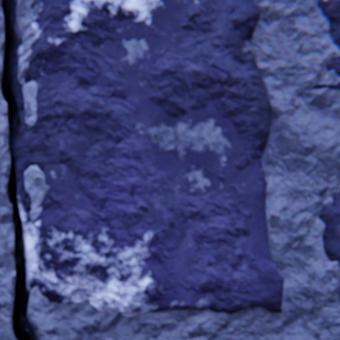brick: (15, 0, 282, 316), (317, 191, 339, 267), (316, 0, 339, 53), (324, 57, 339, 78), (311, 83, 339, 90), (18, 25, 22, 63), (337, 288, 339, 300)
crack: (0, 0, 41, 339)
